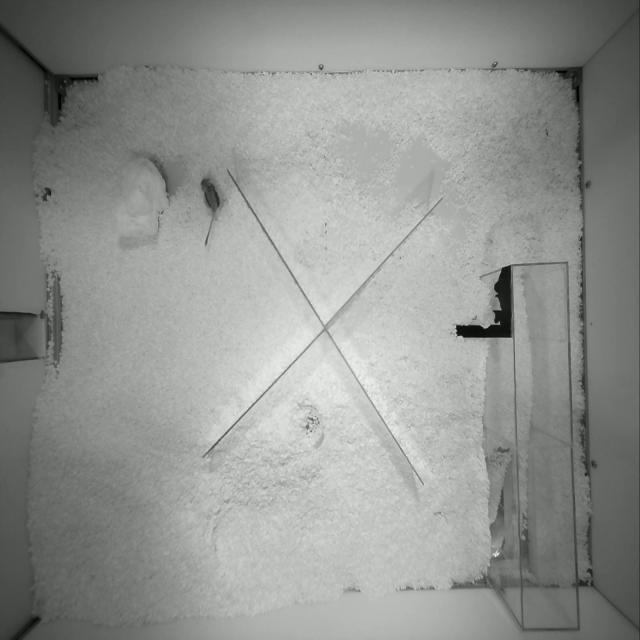pup_v_stripe: (201, 178, 219, 214), (205, 222, 212, 245)
